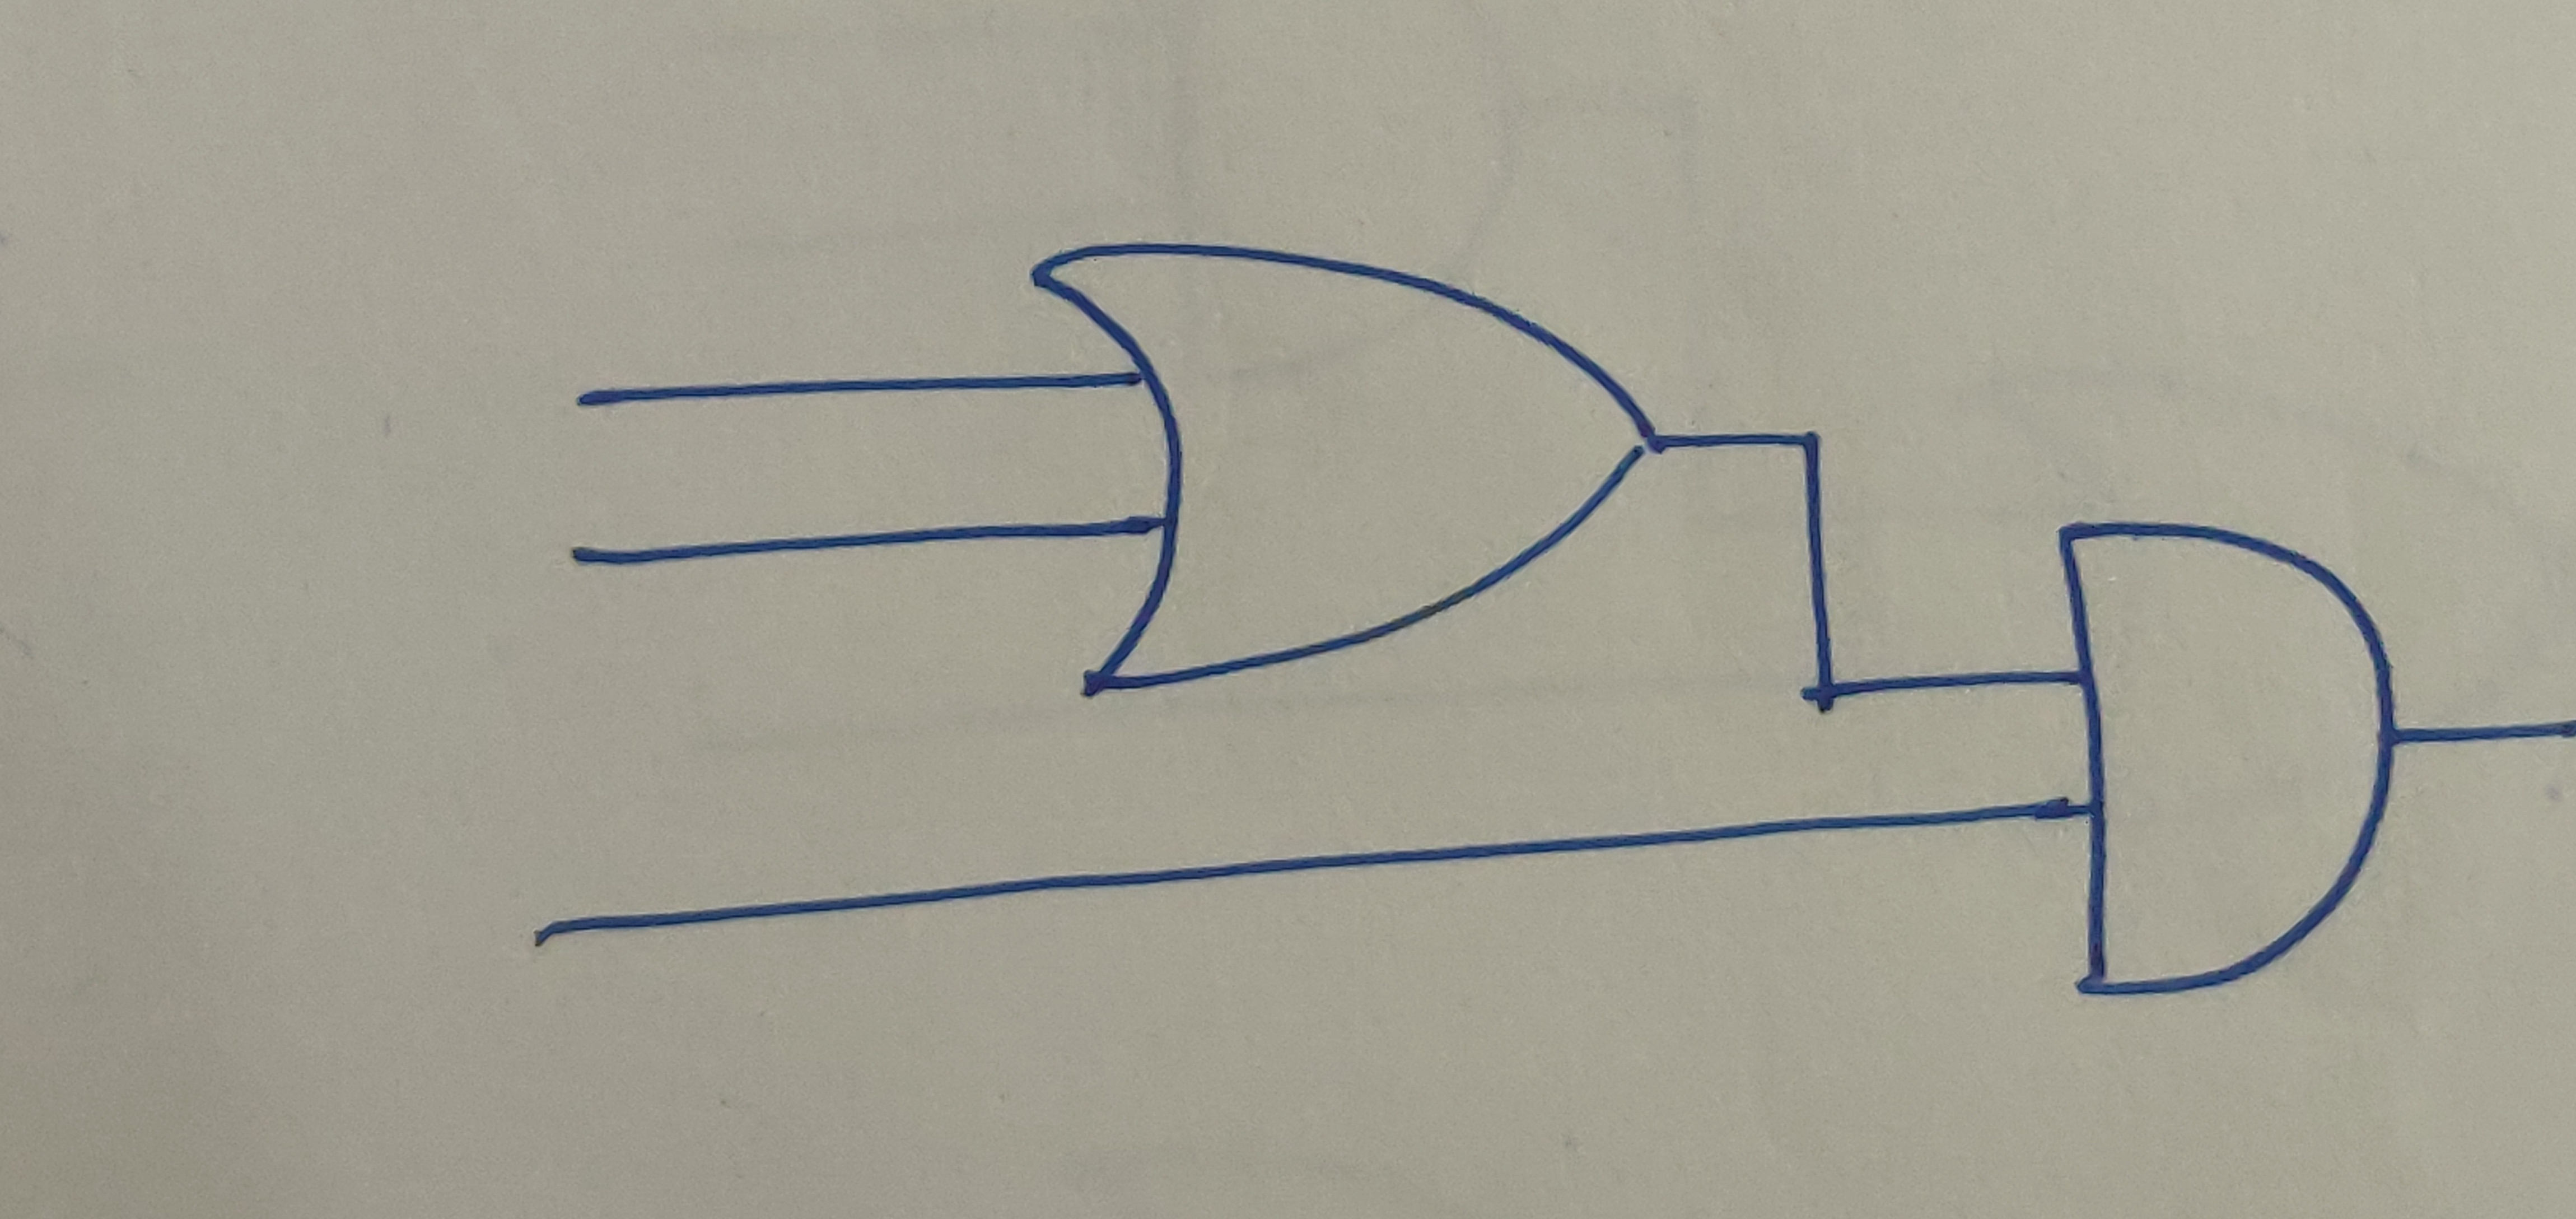and: (2055, 521, 2402, 1002)
or: (1023, 237, 1646, 695)
